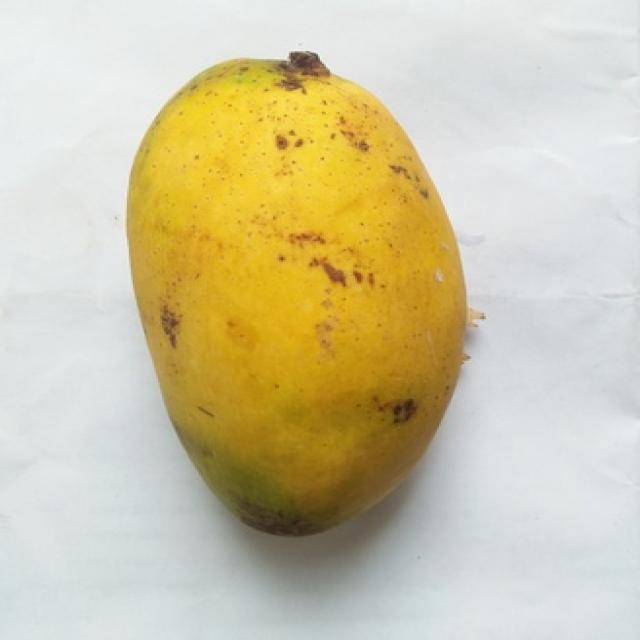Mango: (129, 56, 472, 533)
